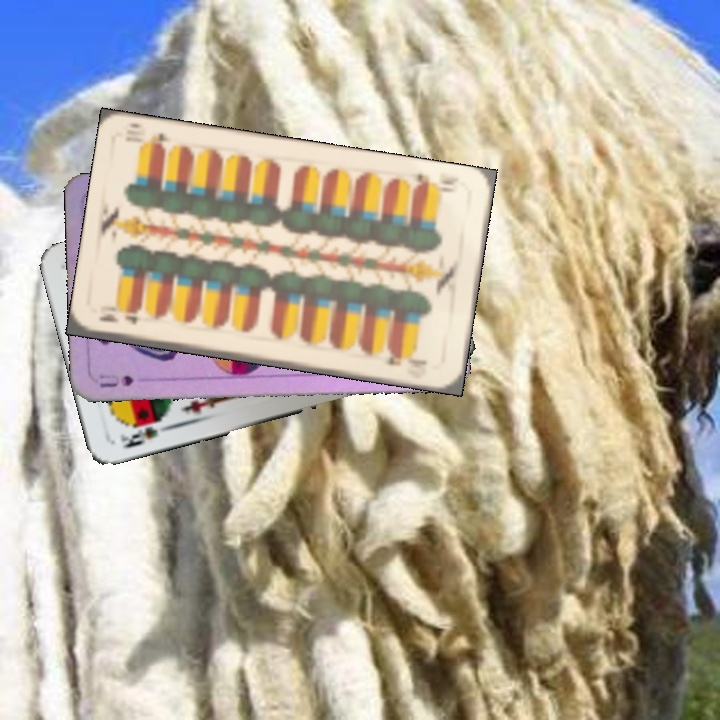E10: (409, 169, 462, 196), (95, 307, 143, 327)
SK: (116, 415, 169, 451)
SU: (96, 370, 136, 390)
